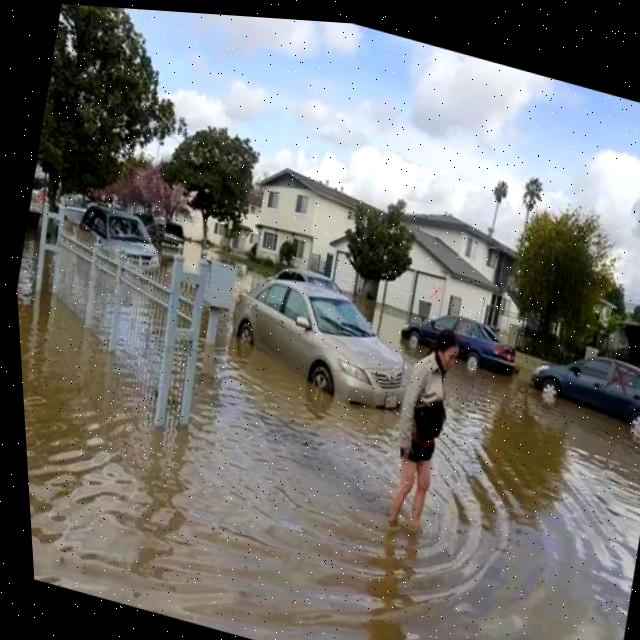civilian: (357, 309, 500, 563)
